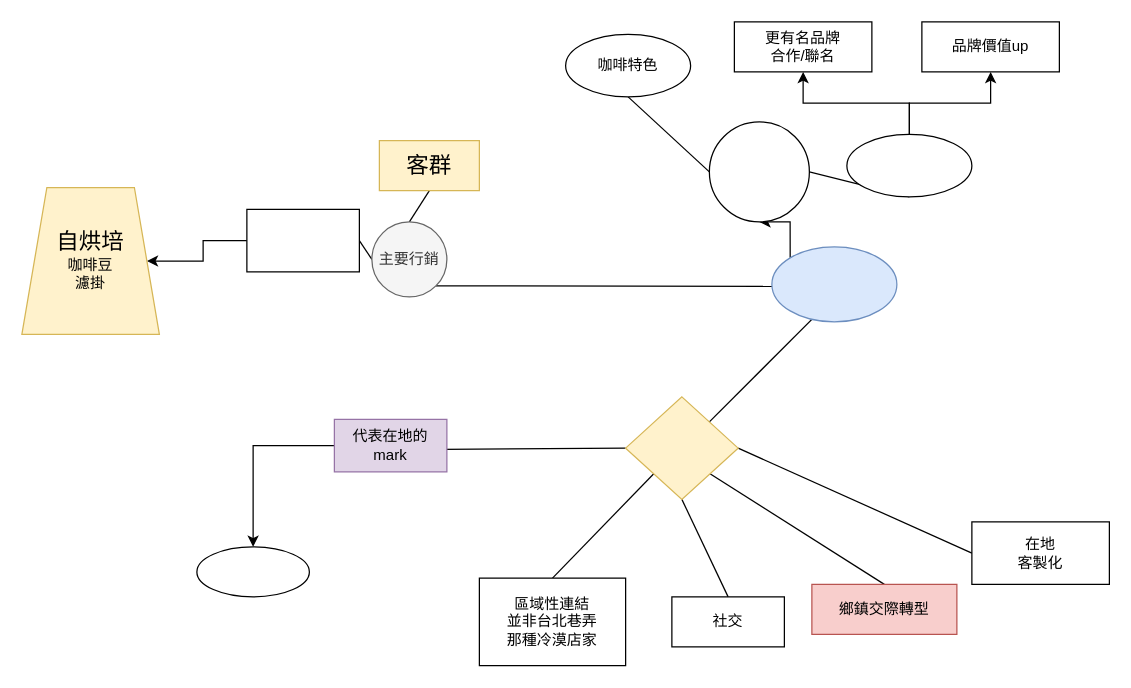
The diagram is 1131 pixels wide and 688 high, and some of its shapes have lost their labels. Each missing label, with the centre of its shape:
"EX: 深港蒜頭" goes at (x=252, y=571).
"品牌廣告" goes at (x=909, y=165).
"商品" goes at (x=302, y=240).
"在地化 咖啡mark" goes at (x=681, y=447).
"布魯斯" goes at (x=834, y=284).
"產業競爭" goes at (x=758, y=171).
